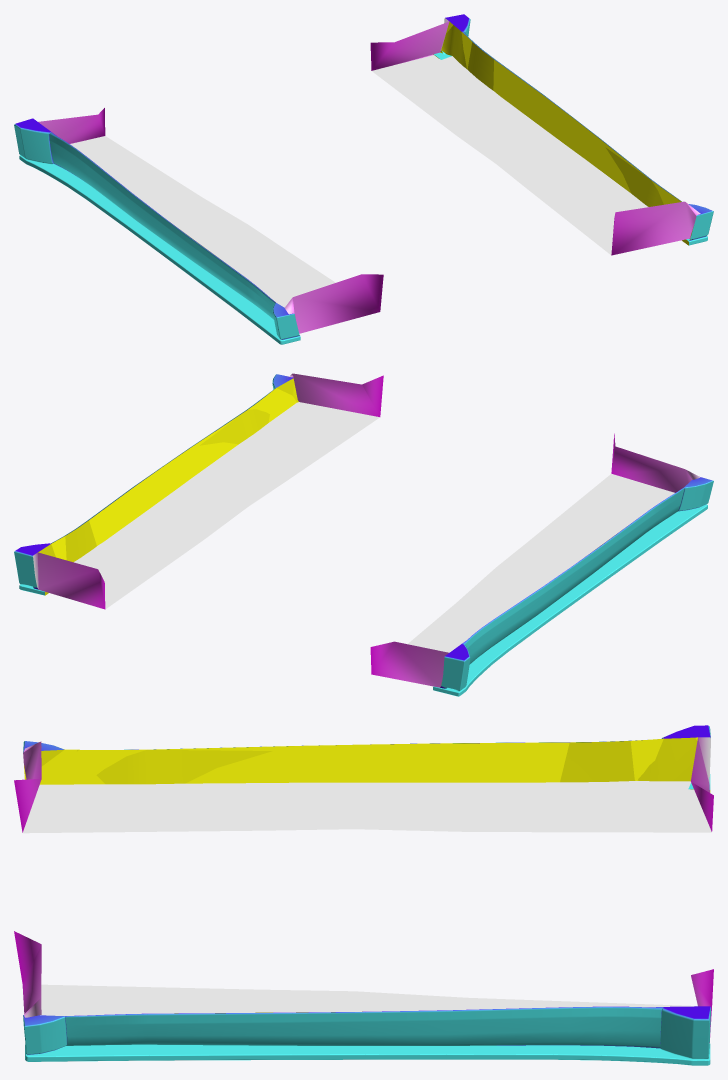
The model's file is Car_Mini_CountrymanJCW_2017_Skirts_SetE.fbx.
3 renders of one model, top to bottom at view 1: azimuth 30°, elevation 25°; view 2: azimuth 150°, elevation 25°; view 3: azimuth 270°, elevation 25°, orthographic. The views are drawn at different scales.
Parts seen in each view (by area): view 1: Skirts 6; view 2: Skirts 6; view 3: Skirts 6.
Part boxes in pixels (bbox=[...]): Skirts 6: bbox=[14, 14, 713, 344]; Skirts 6: bbox=[14, 373, 713, 696]; Skirts 6: bbox=[14, 725, 713, 1065].
Size of the model in its own units: 1.89 by 0.1999 by 1.9.
